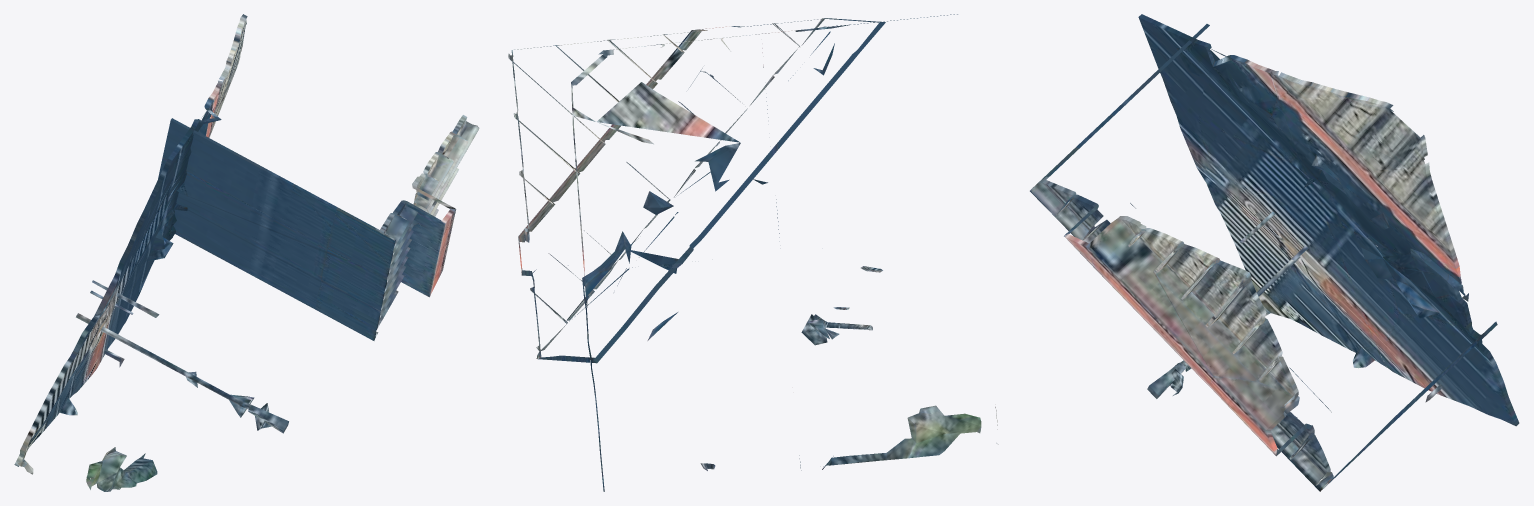
File: masp_tile_12.glb
3 views of the same model, side by side, from view 1: azimuth 30°, elevation 25°; view 2: azimuth 150°, elevation 25°; view 3: azimuth 270°, elevation 25° (orthographic). The views are drawn at different scales.
Size of the model in its own units: 50.52 by 40.38 by 45.52.
Materials: 2 (2 with a texture image).
